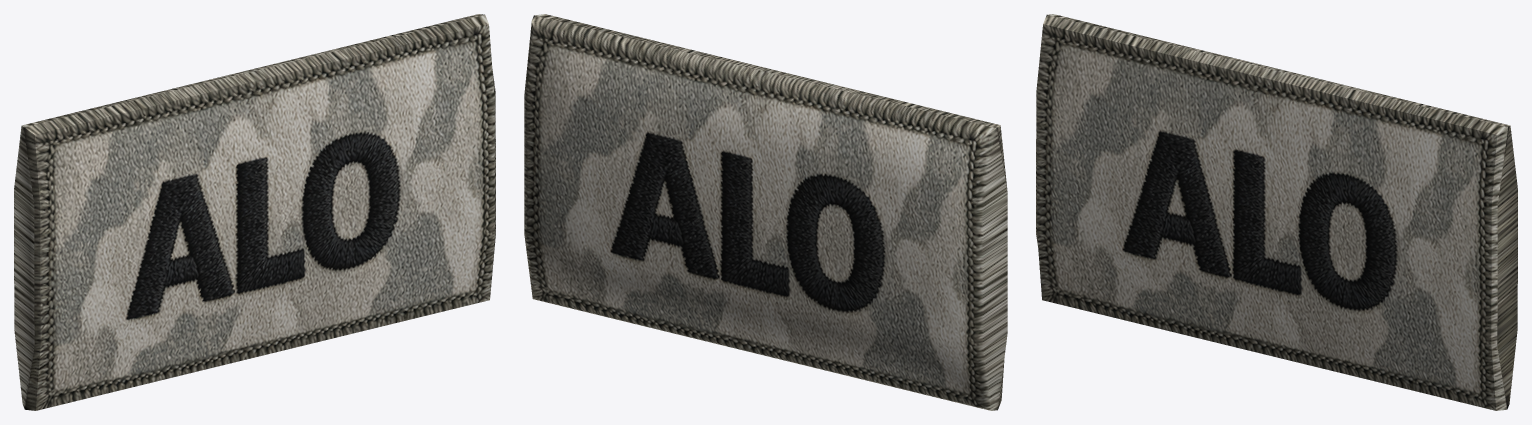
Rendered from ALOArctic.fbx.
3 views of the same model, side by side, from view 1: azimuth 30°, elevation 25°; view 2: azimuth 150°, elevation 25°; view 3: azimuth 330°, elevation 25° (orthographic).
Parts seen in each view (by area): view 1: FlagPatch; view 2: FlagPatch; view 3: FlagPatch.
Boxes of the visible parts, box(x1,y1,x2,y2) form: FlagPatch: box(14, 14, 495, 410); FlagPatch: box(524, 14, 1007, 410); FlagPatch: box(1036, 14, 1517, 410).
Size of the model in its own units: 9.23 by 5.38 by 0.9201.
Materials: 1 (1 with a texture image).
